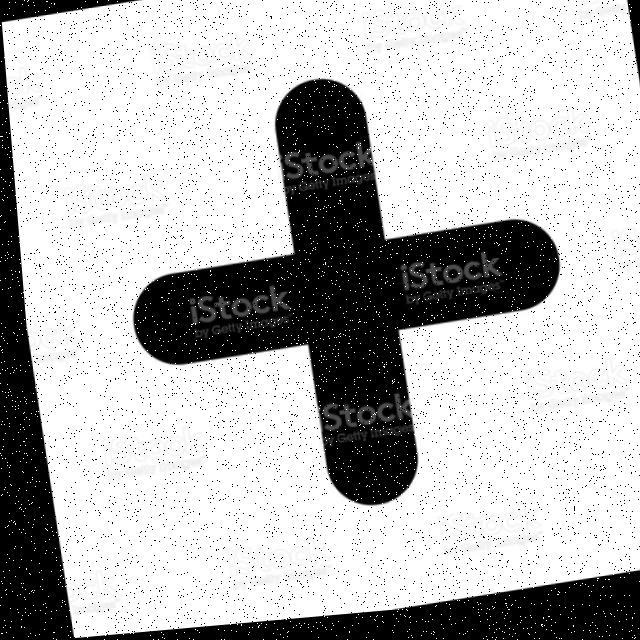cross: (80, 56, 586, 500)
